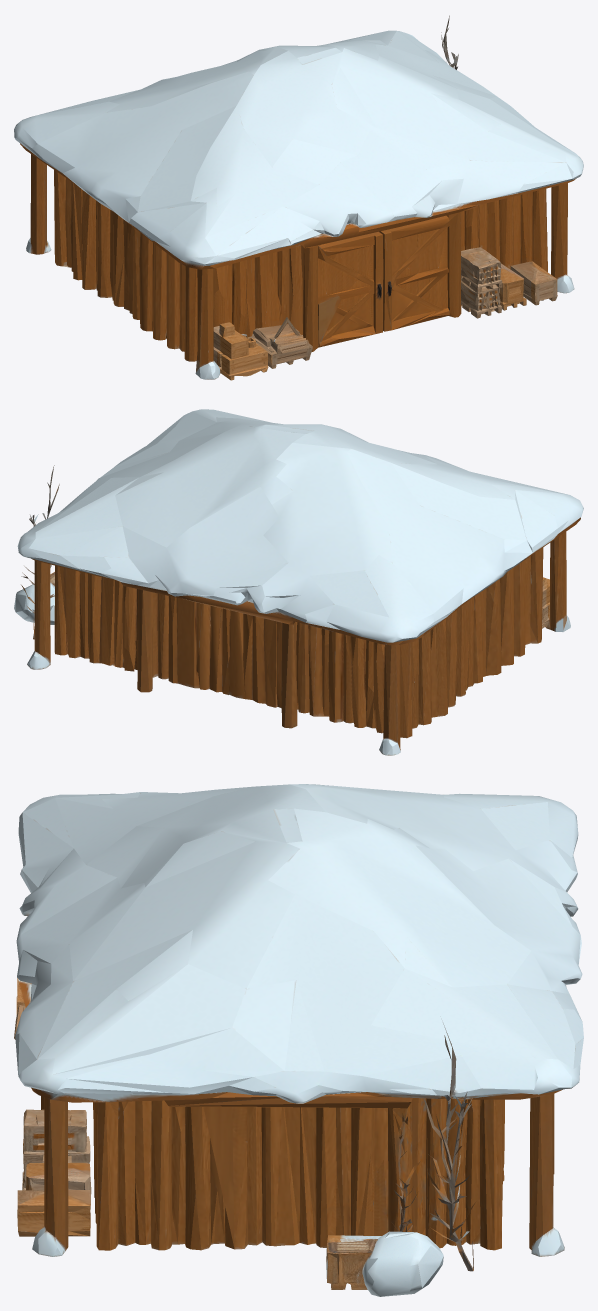
Rendered from warehouse.glb.
3 renders of one model, top to bottom at view 1: azimuth 30°, elevation 25°; view 2: azimuth 150°, elevation 25°; view 3: azimuth 270°, elevation 25°, orthographic. The views are drawn at different scales.
Bounding box in the file's own units: 1.9 × 0.8567 × 1.42.
Materials: 1 (1 with a texture image).
